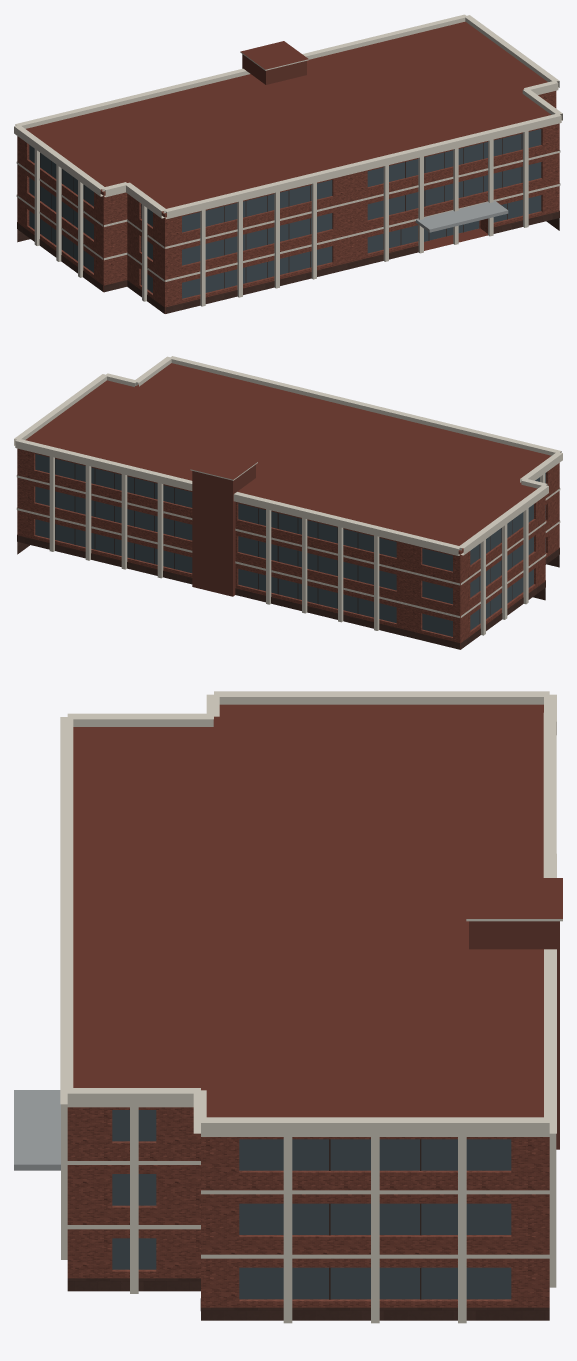
3 renders of one model, top to bottom at view 1: azimuth 30°, elevation 25°; view 2: azimuth 150°, elevation 25°; view 3: azimuth 270°, elevation 25°, orthographic. The views are drawn at different scales.
Parts seen in each view (by area): view 1: branchAdmin__roof, branchAdmin__wall, branchAdmin__trim, branchAdmin__glass, branchAdmin__base, branchAdmin__canopy, branchAdmin__frame, branchAdmin__wall2; view 2: branchAdmin__roof, branchAdmin__wall, branchAdmin__trim, branchAdmin__glass, branchAdmin__wall2, branchAdmin__base, branchAdmin__frame; view 3: branchAdmin__roof, branchAdmin__wall, branchAdmin__trim, branchAdmin__glass, branchAdmin__base, branchAdmin__canopy, branchAdmin__wall2.
Part boxes in pixels (left/top/right/bottom): branchAdmin__roof: left=26, top=21, right=550, bottom=250; branchAdmin__wall: left=17, top=91, right=559, bottom=313; branchAdmin__trim: left=14, top=14, right=562, bottom=306; branchAdmin__glass: left=29, top=129, right=541, bottom=298; branchAdmin__base: left=17, top=211, right=559, bottom=313; branchAdmin__canopy: left=415, top=200, right=508, bottom=232; branchAdmin__frame: left=40, top=134, right=522, bottom=288; branchAdmin__wall2: left=242, top=54, right=306, bottom=84; branchAdmin__roof: left=25, top=363, right=551, bottom=551; branchAdmin__wall: left=17, top=448, right=559, bottom=649; branchAdmin__trim: left=14, top=356, right=562, bottom=635; branchAdmin__glass: left=35, top=454, right=545, bottom=636; branchAdmin__wall2: left=192, top=464, right=255, bottom=596; branchAdmin__base: left=17, top=535, right=559, bottom=649; branchAdmin__frame: left=55, top=459, right=512, bottom=623; branchAdmin__roof: left=73, top=704, right=562, bottom=1117; branchAdmin__wall: left=67, top=1107, right=549, bottom=1307; branchAdmin__trim: left=60, top=691, right=562, bottom=1323; branchAdmin__glass: left=112, top=1110, right=511, bottom=1299; branchAdmin__base: left=67, top=1278, right=549, bottom=1320; branchAdmin__canopy: left=14, top=1090, right=60, bottom=1170; branchAdmin__wall2: left=469, top=921, right=559, bottom=1149.
Size of the model in its own units: 53.29 by 14.85 by 28.66.
Materials: 9 (2 with a texture image).
